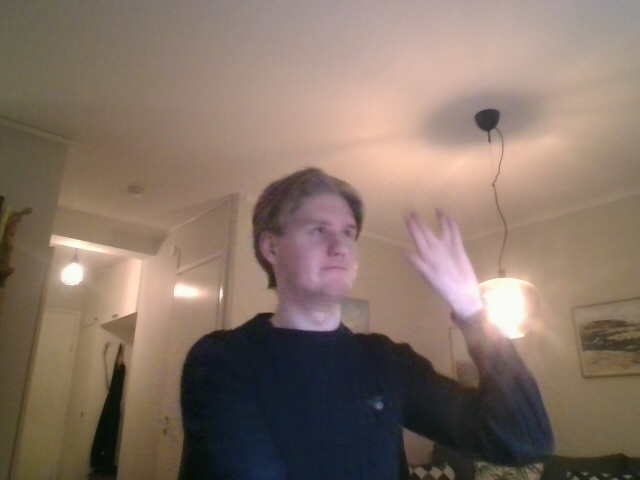LiveLong: (402, 209, 482, 306)
